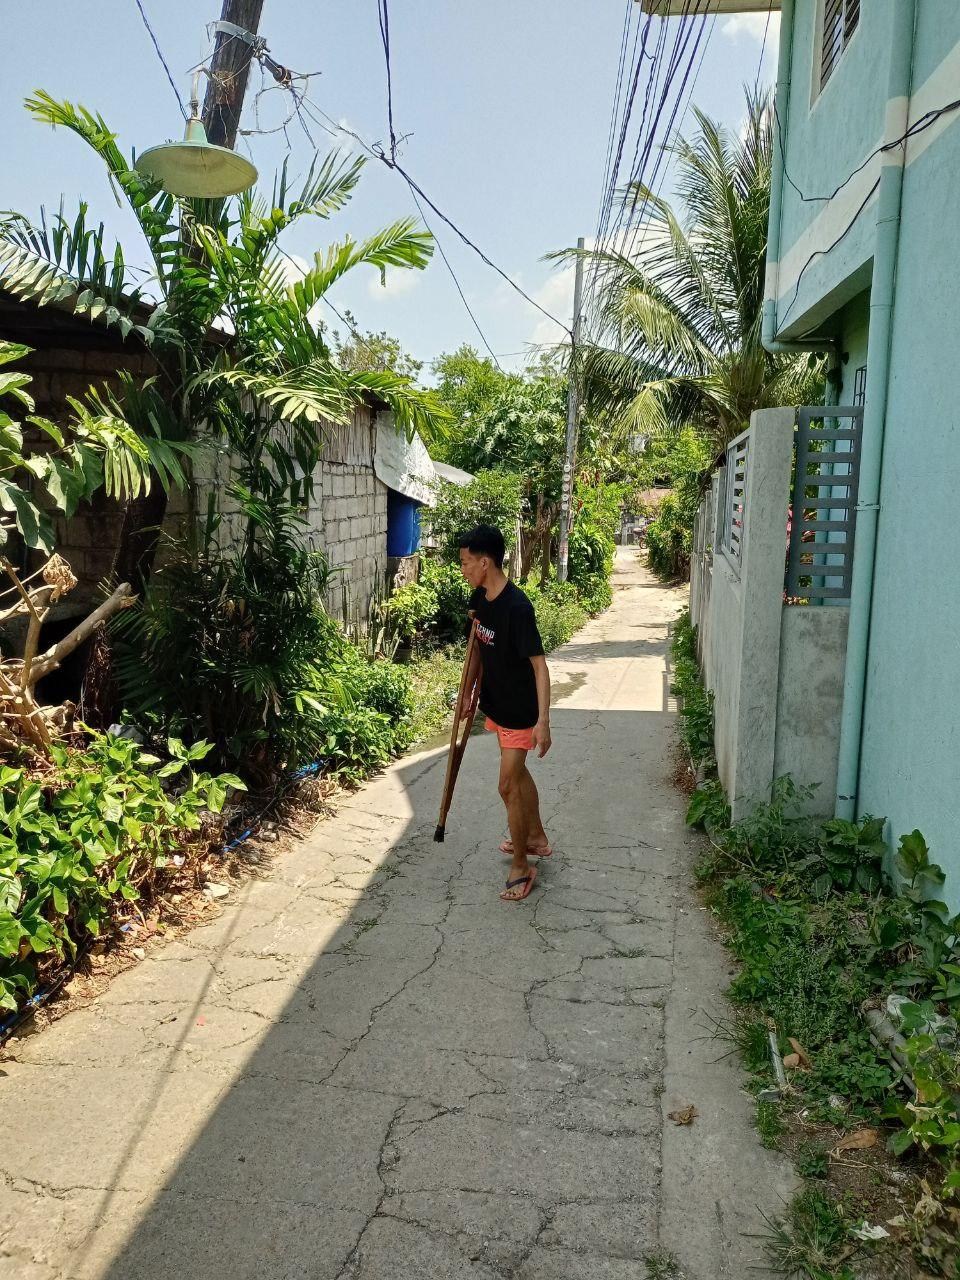crutches: (430, 530, 552, 902)
